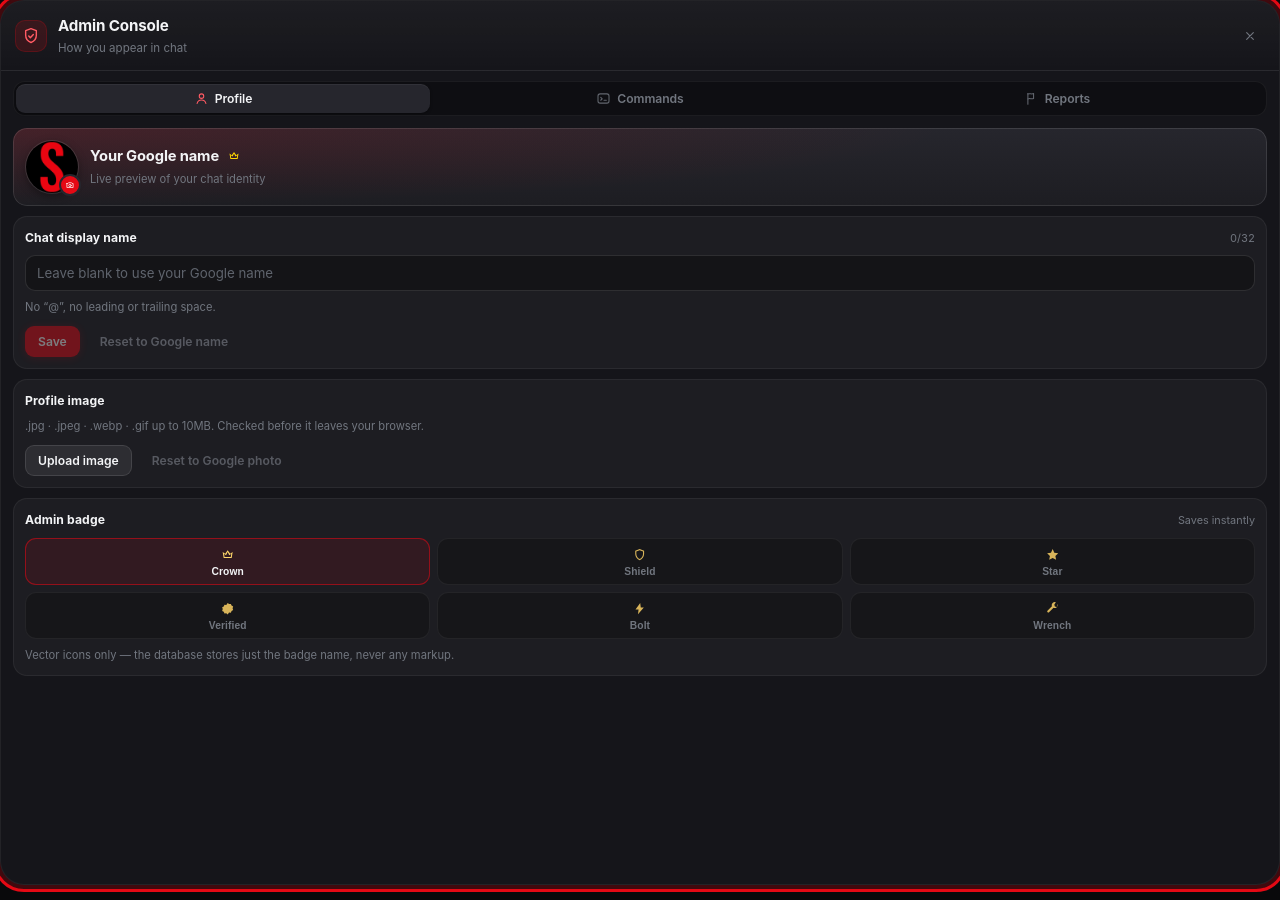
Test: GlobalChatAdminDashboard profile section: display name › surfaces a validation error and blocks save
Type "a@b" into the field labelled "Chat display name" at (640, 273), box left=25, top=255, right=1255, bottom=291
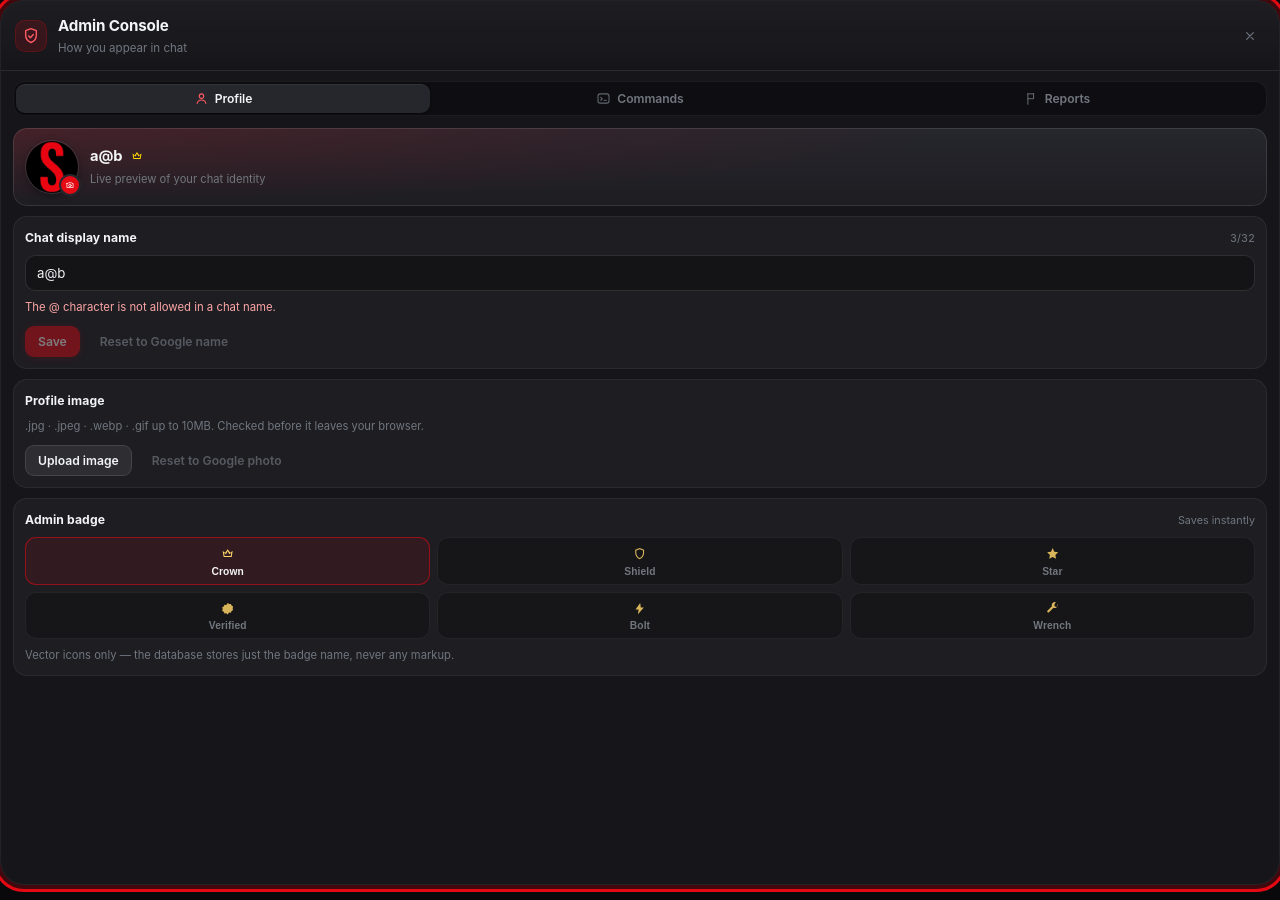
Expected: the button "Save" is disabled, left=25, top=326, right=80, bottom=357
Expected: the text "The @ character is not allowed in a chat name." is shown, left=25, top=300, right=276, bottom=314
